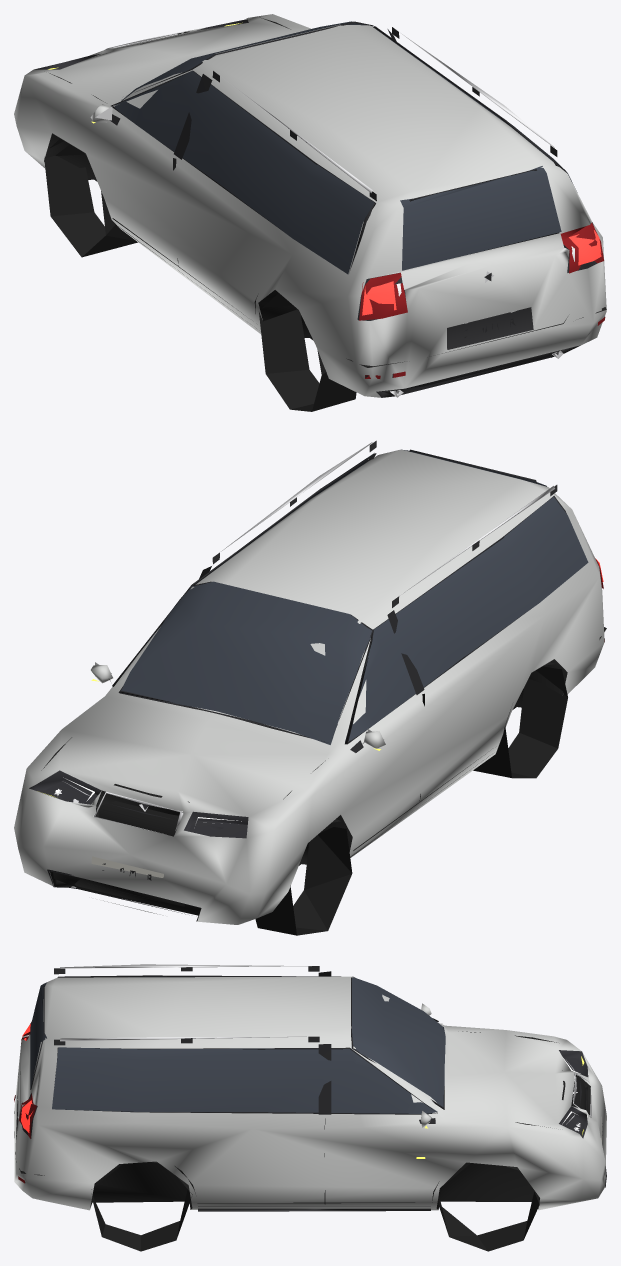
File: civ_suv_lod1.glb
The picture shows the model from 3 angles, top to bottom: view 1: azimuth 30°, elevation 25°; view 2: azimuth 150°, elevation 25°; view 3: azimuth 270°, elevation 25°; orthographic projection. The views are drawn at different scales.
Parts seen in each view (by area): view 1: civ_suv.001; view 2: civ_suv.001; view 3: civ_suv.001.
Boxes of the visible parts, x1,y1,x2,y2 form: civ_suv.001: (14,14,606,411); civ_suv.001: (14,440,606,935); civ_suv.001: (14,964,606,1251).
Size of the model in its own units: 2.11 by 1.73 by 4.59.
